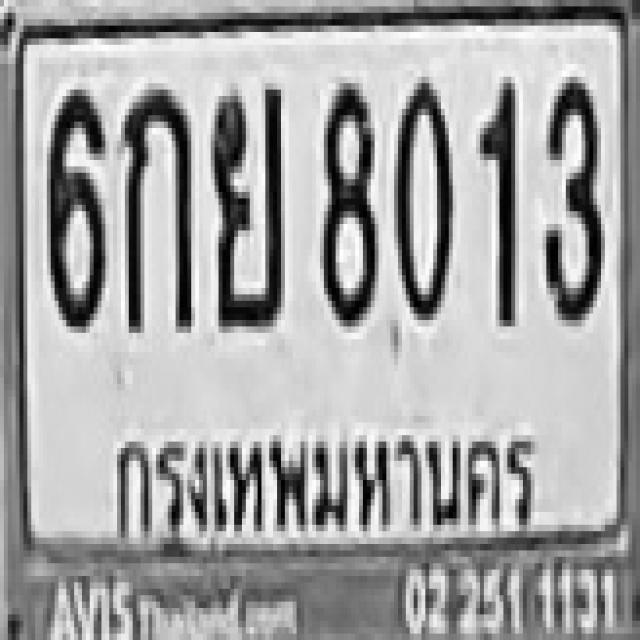0: (390, 76, 449, 314)
1: (476, 77, 511, 320)
10GorGai: (121, 84, 191, 326)
3: (539, 70, 601, 320)
43YorYak: (207, 80, 281, 323)
6: (43, 84, 101, 326)
8: (320, 77, 375, 320)
Bangkok: (93, 406, 549, 560)
